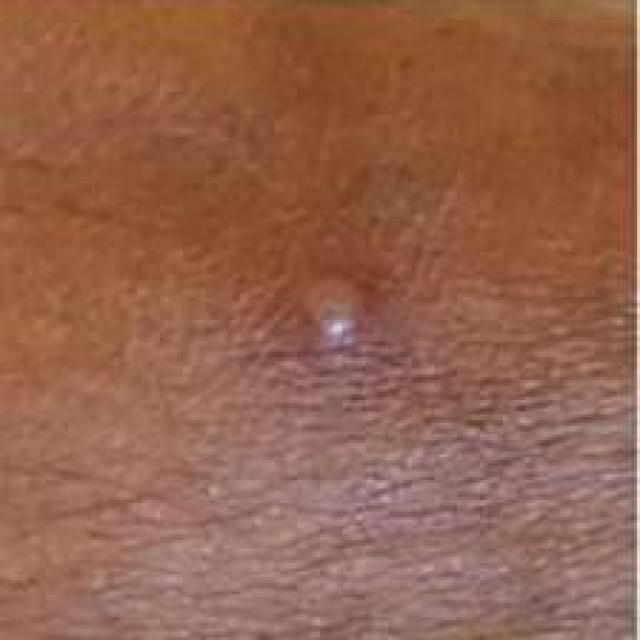monkeypox: (81, 75, 602, 640)
